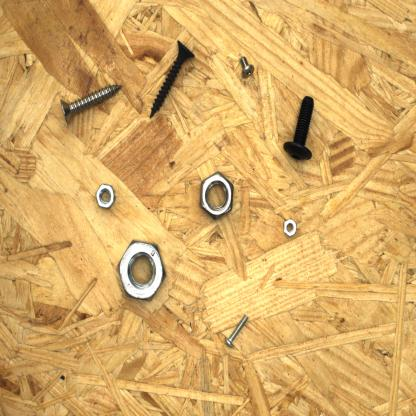screw: (147, 35, 198, 121), (56, 81, 124, 128), (283, 92, 316, 164), (222, 307, 252, 351), (236, 51, 258, 81)
